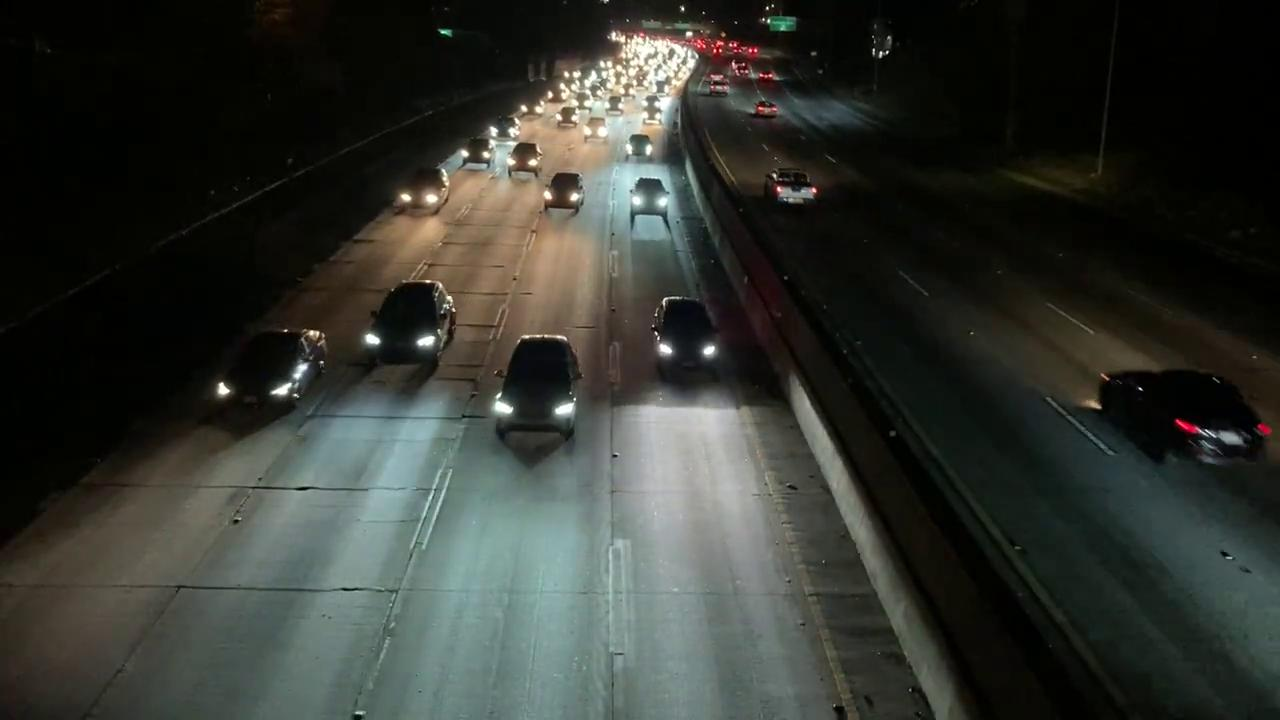car: (1100, 348, 1274, 469), (355, 274, 470, 364), (493, 329, 586, 436), (215, 324, 331, 406), (648, 286, 723, 370), (395, 164, 449, 213), (628, 174, 672, 219), (544, 170, 586, 212), (770, 171, 818, 206), (509, 142, 548, 172), (462, 137, 497, 167), (622, 134, 654, 158), (581, 116, 607, 143), (553, 105, 578, 124), (751, 102, 777, 118)
